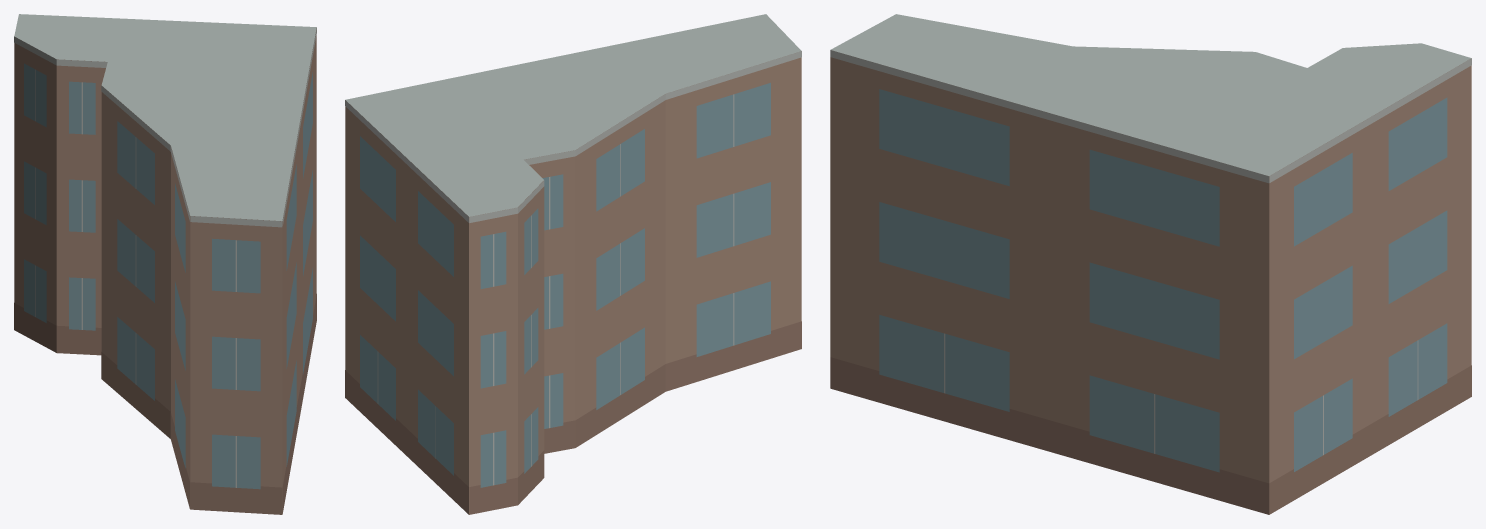
Rendered from survey-upis-32801241.glb.
3 views of the same model, side by side, from view 1: azimuth 30°, elevation 25°; view 2: azimuth 150°, elevation 25°; view 3: azimuth 270°, elevation 25° (orthographic). The views are drawn at different scales.
Visible parts, largest first — view 1: survey-upis-32801241.tmp; view 2: survey-upis-32801241.tmp; view 3: survey-upis-32801241.tmp.
Boxes of the visible parts, box(x1,y1,x2,y2) form: survey-upis-32801241.tmp: box(14, 14, 316, 514); survey-upis-32801241.tmp: box(345, 14, 801, 514); survey-upis-32801241.tmp: box(830, 14, 1471, 514).
Bounding box in the file's own units: 11.82 × 11.5 × 19.75.
